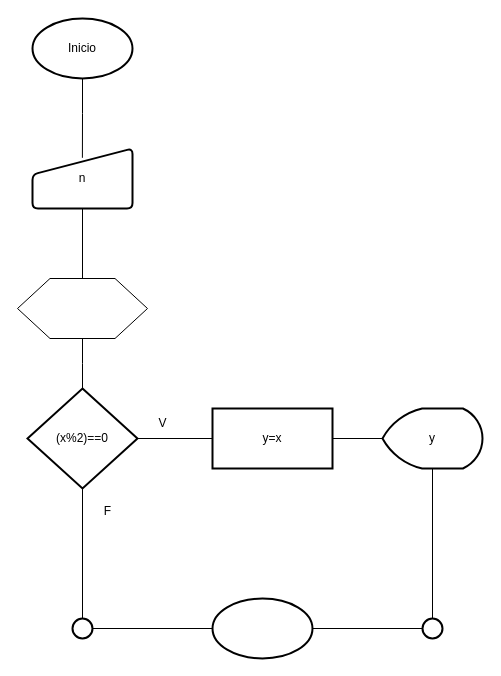
This 501x676 diagram has some shape labels left out. Here are the shapes that lost their labels. From the top down, the box of each, then its label:
(16, 278, 148, 338): x=1; x<=n; x=x+1
(211, 597, 313, 659): Fim
